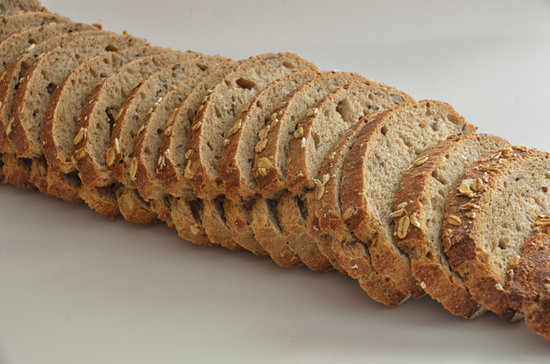slice of bread: (2, 1, 549, 297)
